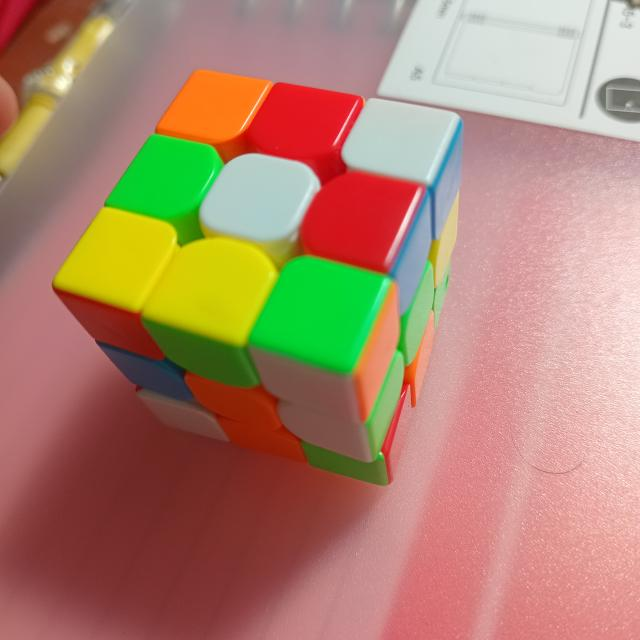front: (354, 118, 463, 484)
left: (52, 286, 389, 486)
rubik: (45, 63, 467, 491)
up: (52, 69, 460, 376)
